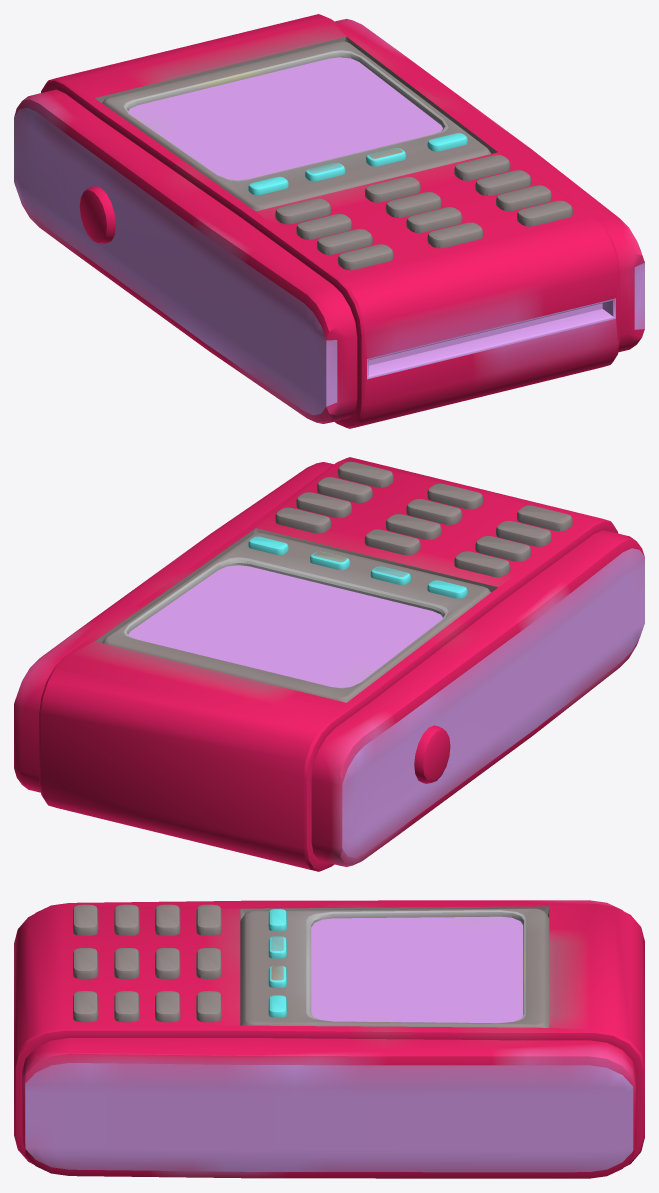
The model's file is mini_atm_machine.fbx.
3 views of the same model, one above another, from view 1: azimuth 30°, elevation 25°; view 2: azimuth 150°, elevation 25°; view 3: azimuth 270°, elevation 25° (orthographic).
Parts seen in each view (by area): view 1: mini_atm_machine; view 2: mini_atm_machine; view 3: mini_atm_machine.
Part boxes in pixels (x1,y1,x2,y2): mini_atm_machine: (14,14,644,428); mini_atm_machine: (14,457,644,871); mini_atm_machine: (14,900,644,1178).
Bounding box in the file's own units: 115 × 50.58 × 188.
